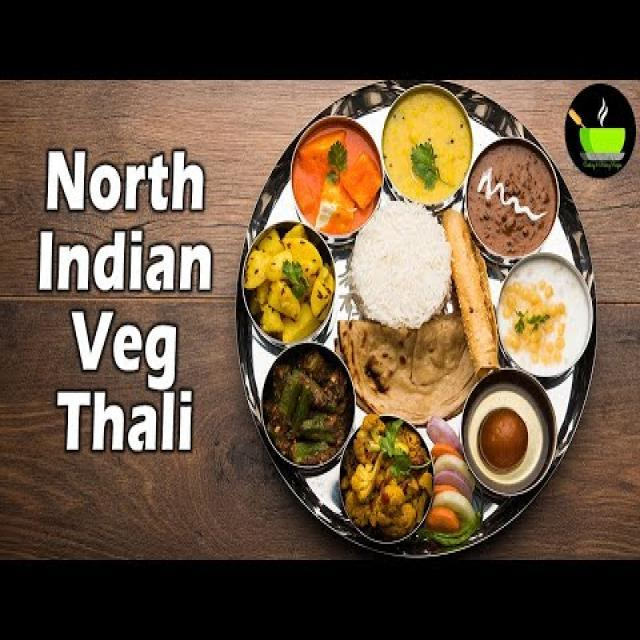dal: (380, 88, 482, 205)
papad: (441, 206, 506, 379)
raita: (496, 250, 597, 378)
rice: (350, 198, 450, 327)
roti: (338, 302, 476, 427)
sweet: (457, 373, 554, 485)
veg: (289, 117, 386, 236)
veg-fry: (241, 223, 332, 358)
